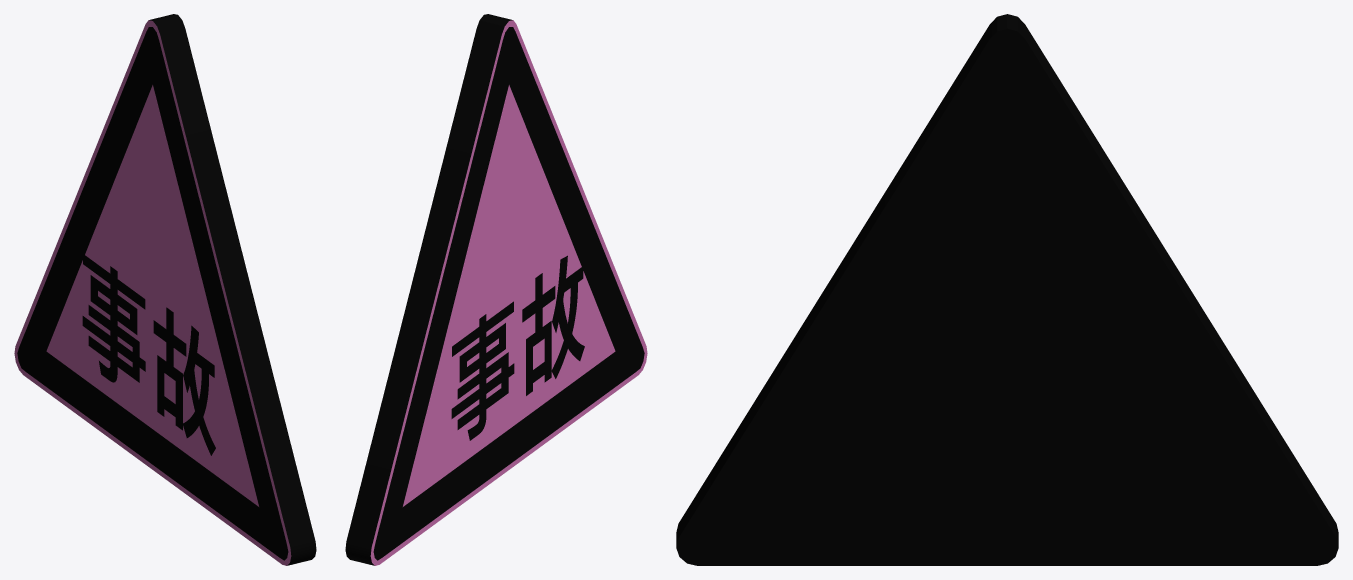
Rendered from Traffic_Accident_Management.fbx.
3 renders of one model, left to right at view 1: azimuth 30°, elevation 25°; view 2: azimuth 150°, elevation 25°; view 3: azimuth 270°, elevation 25°, orthographic. The views are drawn at different scales.
Visible parts, largest first — view 1: Traffic_Accident_Management; view 2: Traffic_Accident_Management; view 3: Traffic_Accident_Management.
Boxes of the visible parts, x1=… form: Traffic_Accident_Management: x1=14, y1=14, x2=316, y2=565; Traffic_Accident_Management: x1=345, y1=14, x2=647, y2=565; Traffic_Accident_Management: x1=676, y1=14, x2=1338, y2=565.
Bounding box in the file's own units: 0.075 × 1.02 × 1.14.
